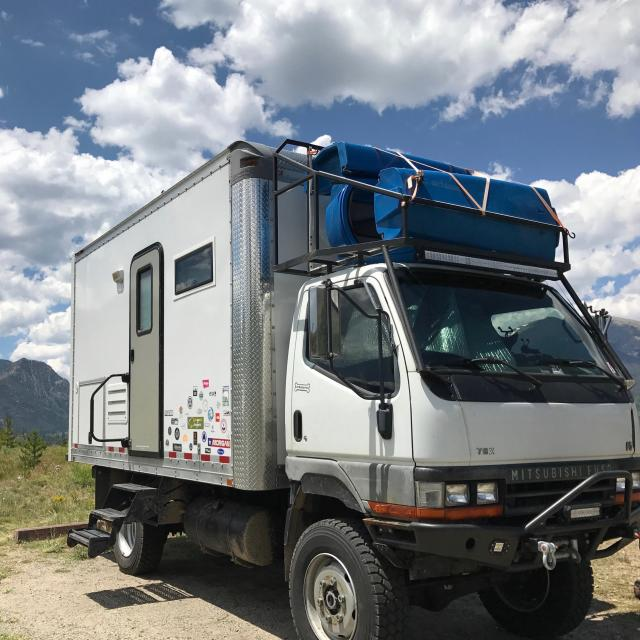truck: (68, 125, 640, 640)
